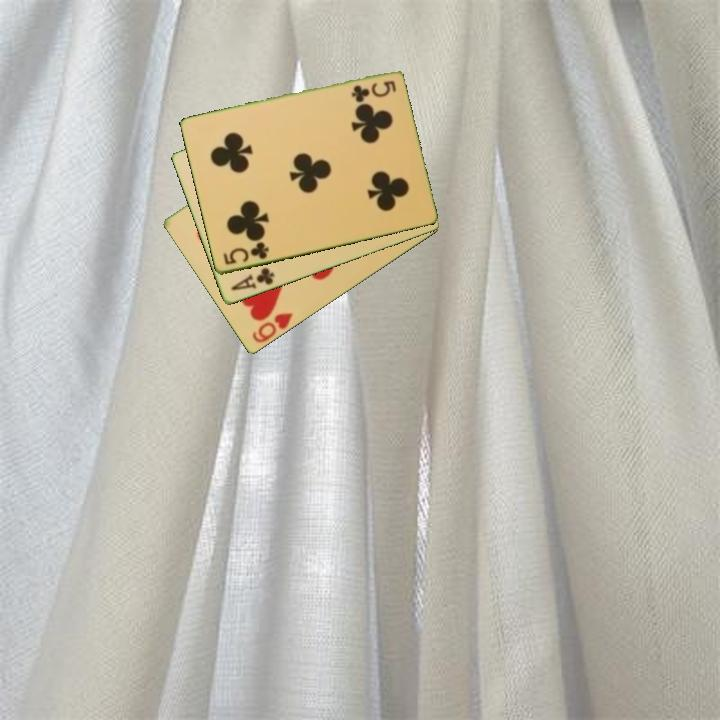5c: (220, 239, 272, 268), (348, 77, 399, 103)
6h: (248, 309, 296, 346)
Ac: (227, 264, 277, 294)
